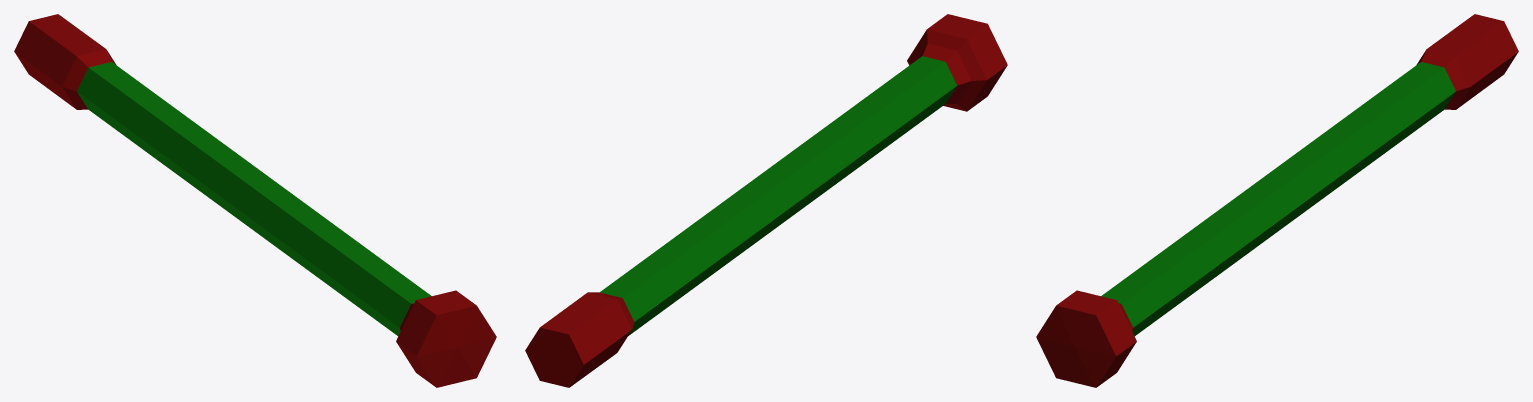
Rendered from HeavyLaser.fbx.
3 views of the same model, side by side, from view 1: azimuth 30°, elevation 25°; view 2: azimuth 150°, elevation 25°; view 3: azimuth 330°, elevation 25° (orthographic).
Parts seen in each view (by area): view 1: HeavyLaser; view 2: HeavyLaser; view 3: HeavyLaser.
Part boxes in pixels (box(x1,y1,x2,y2)): HeavyLaser: box(14, 14, 496, 387); HeavyLaser: box(525, 14, 1007, 387); HeavyLaser: box(1036, 14, 1518, 387).
Bounding box in the file's own units: 0.0884 × 0.0766 × 0.7914.
